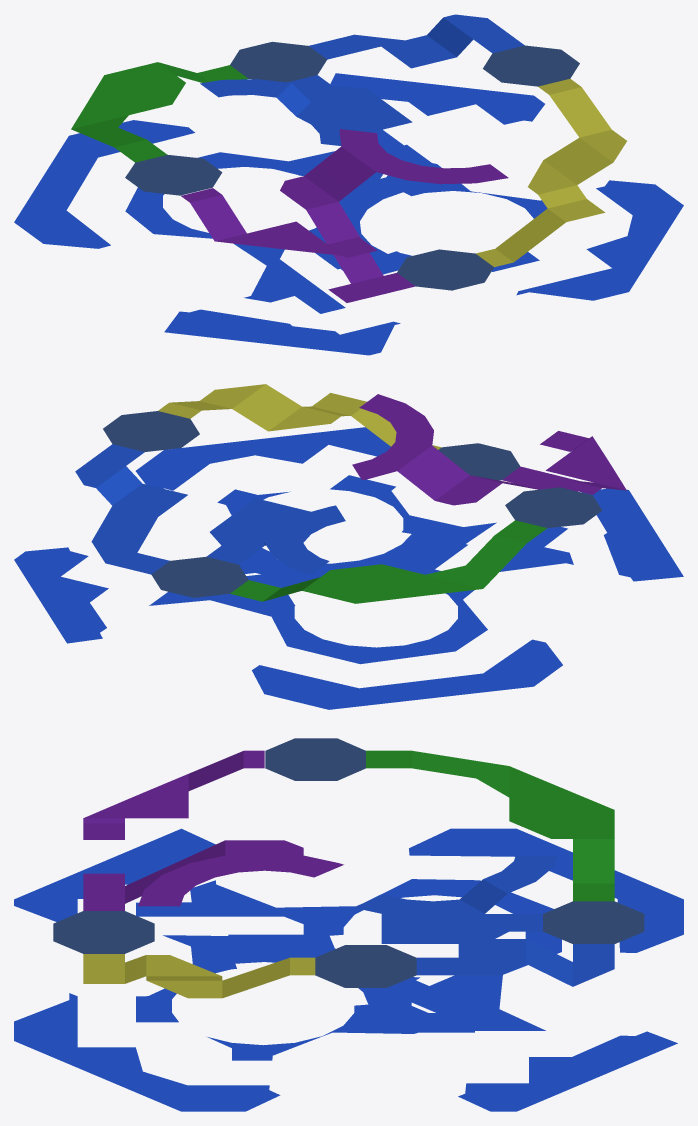
File: floors.fbx
3 views of the same model, one above another, from view 1: azimuth 30°, elevation 25°; view 2: azimuth 150°, elevation 25°; view 3: azimuth 270°, elevation 25° (orthographic). The views are drawn at different scales.
Visible parts, largest first — view 1: Floor_2, Floor_1; view 2: Floor_2, Floor_1; view 3: Floor_2, Floor_1.
Boxes of the visible parts, <box> form: Floor_2: <box>71,14,626,302</box>; Floor_1: <box>14,73,683,355</box>; Floor_2: <box>75,384,626,603</box>; Floor_1: <box>14,427,683,709</box>; Floor_2: <box>53,738,644,998</box>; Floor_1: <box>14,828,683,1111</box>.
Bounding box in the file's own units: 3125 × 551 × 3125.
